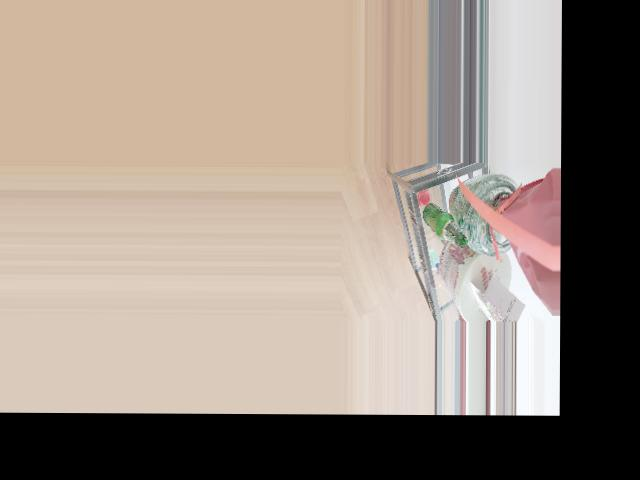beer: (422, 202, 466, 248)
